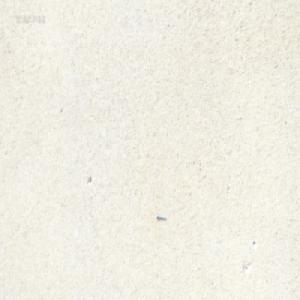Nail: (156, 214, 166, 222)
